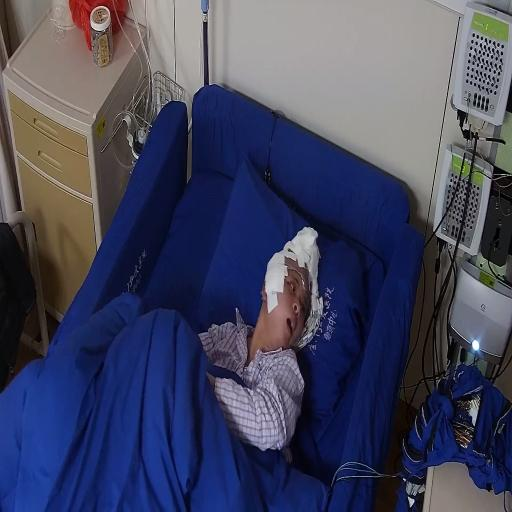Seizure: (260, 238, 318, 349)
